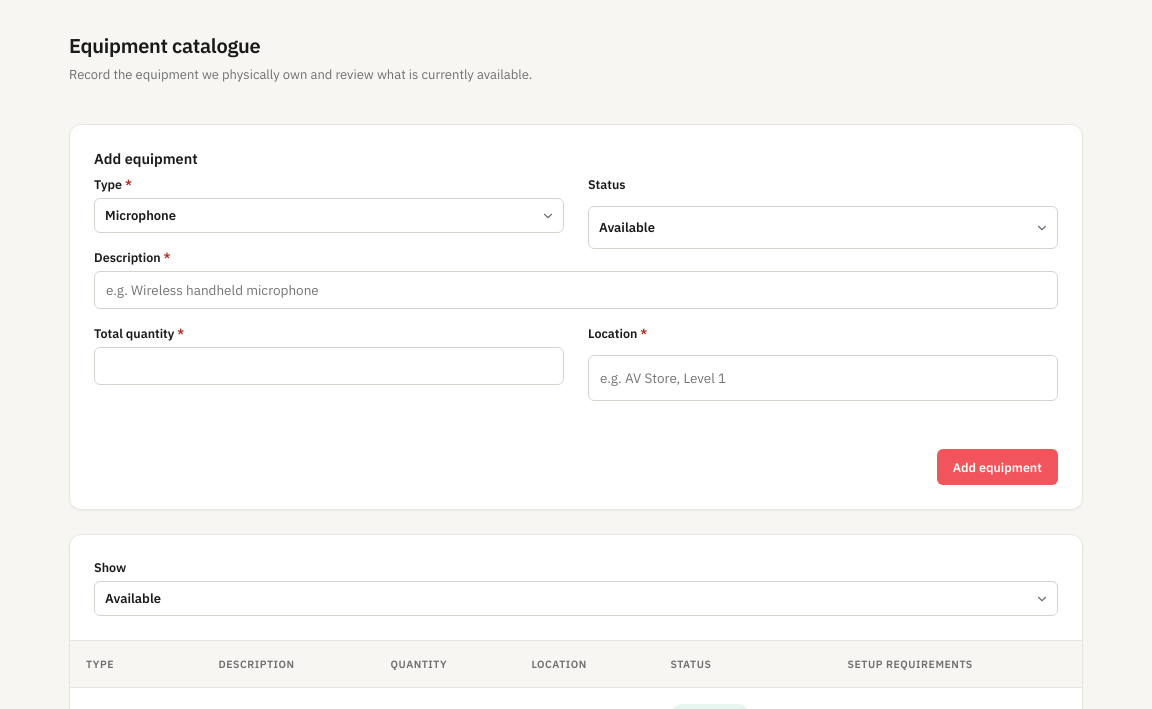
Test: validates before sending
The image size is (1152, 709).
In the field labelled "Description *": x=576, y=290 [94, 271, 1058, 309], type "Thing"
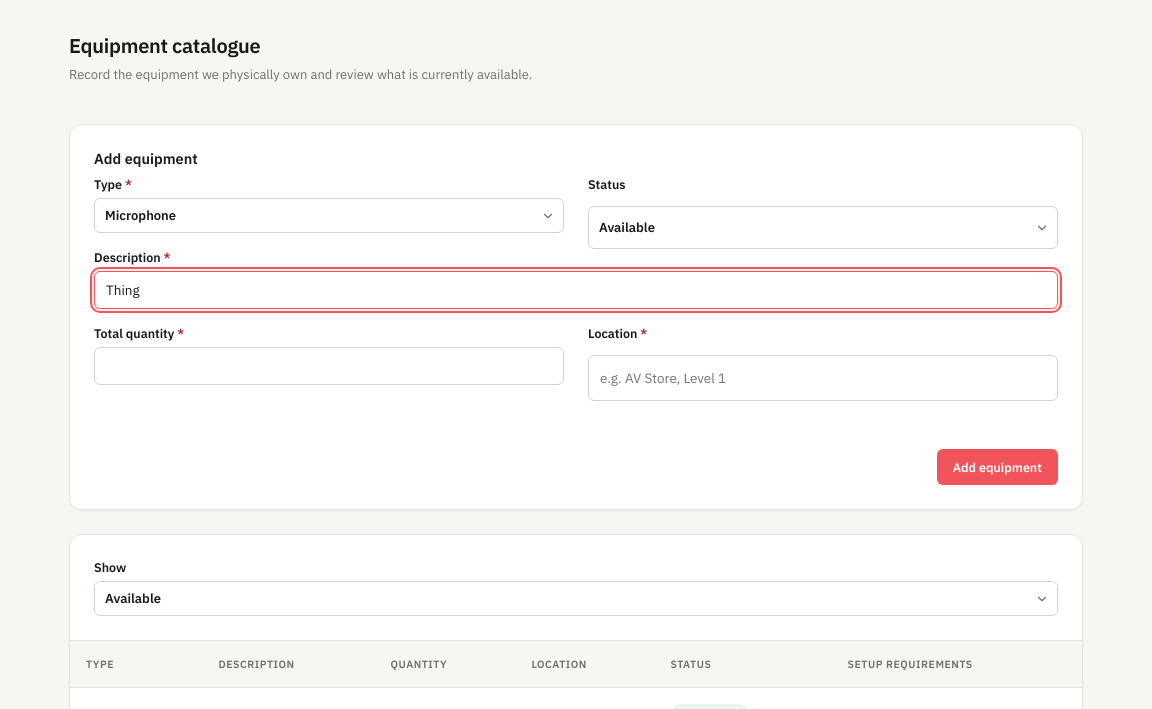
In the number field labelled "Total quantity *": x=329, y=366 [94, 347, 564, 385], type "-1"
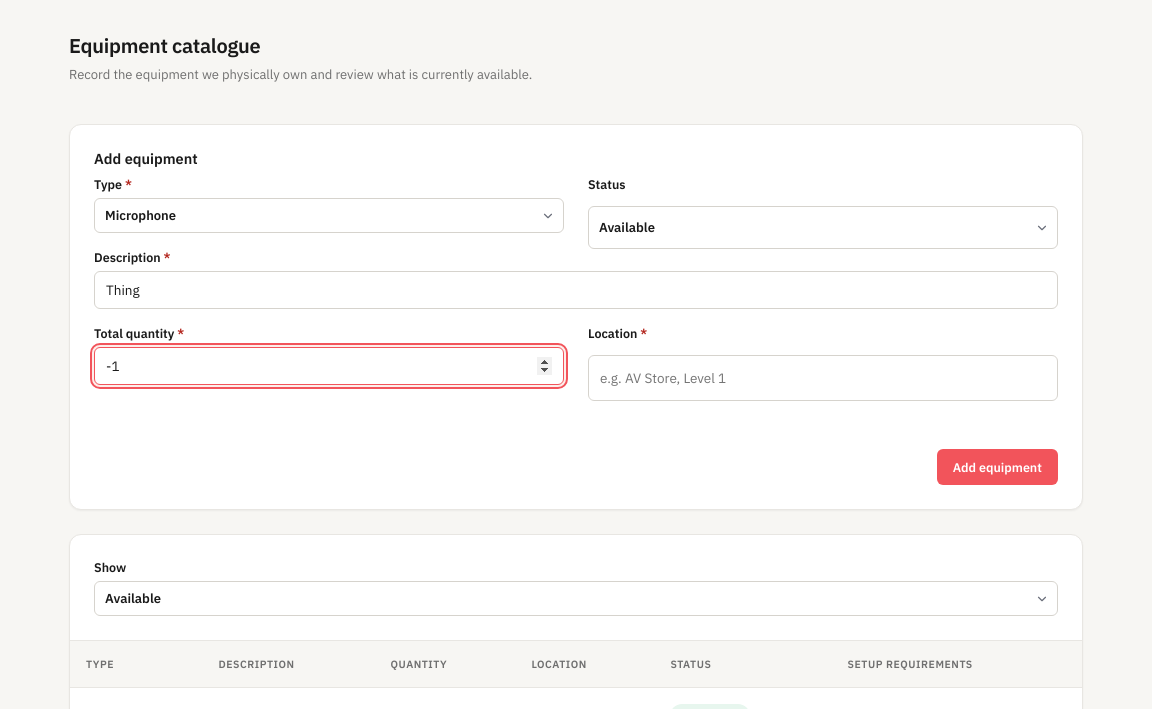
In the field labelled "Location *": x=823, y=378 [588, 355, 1058, 401], type "Store"
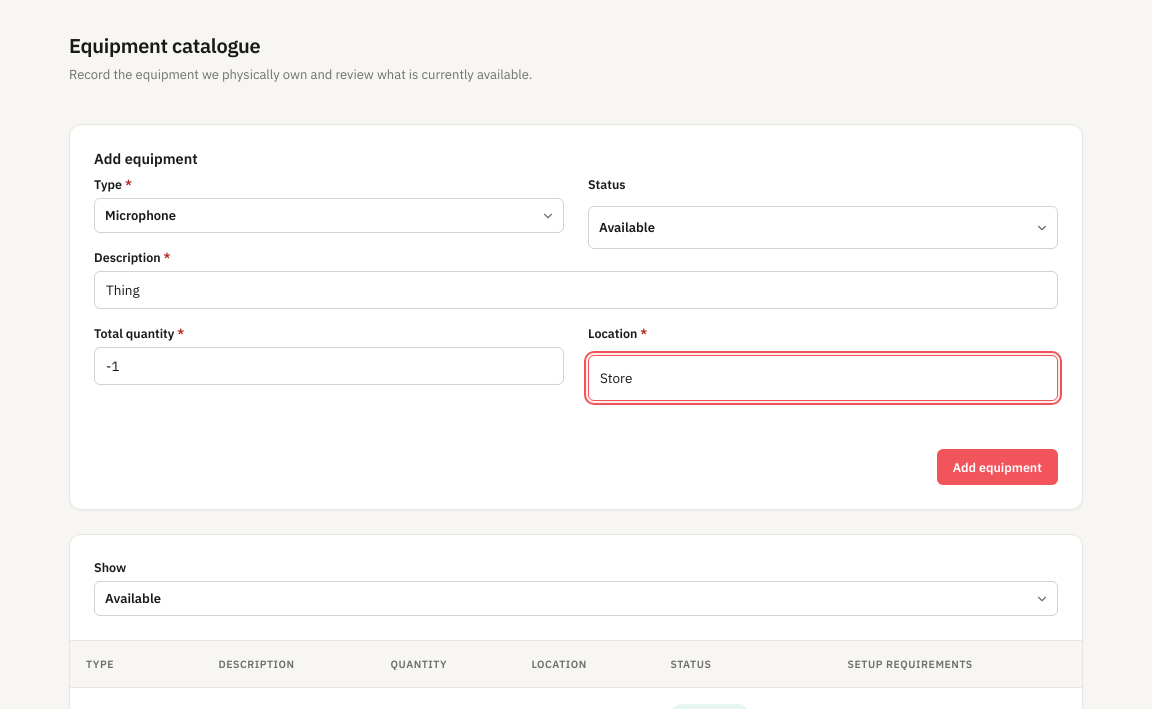
Click the button "Add equipment": x=997, y=467 [937, 449, 1058, 485]
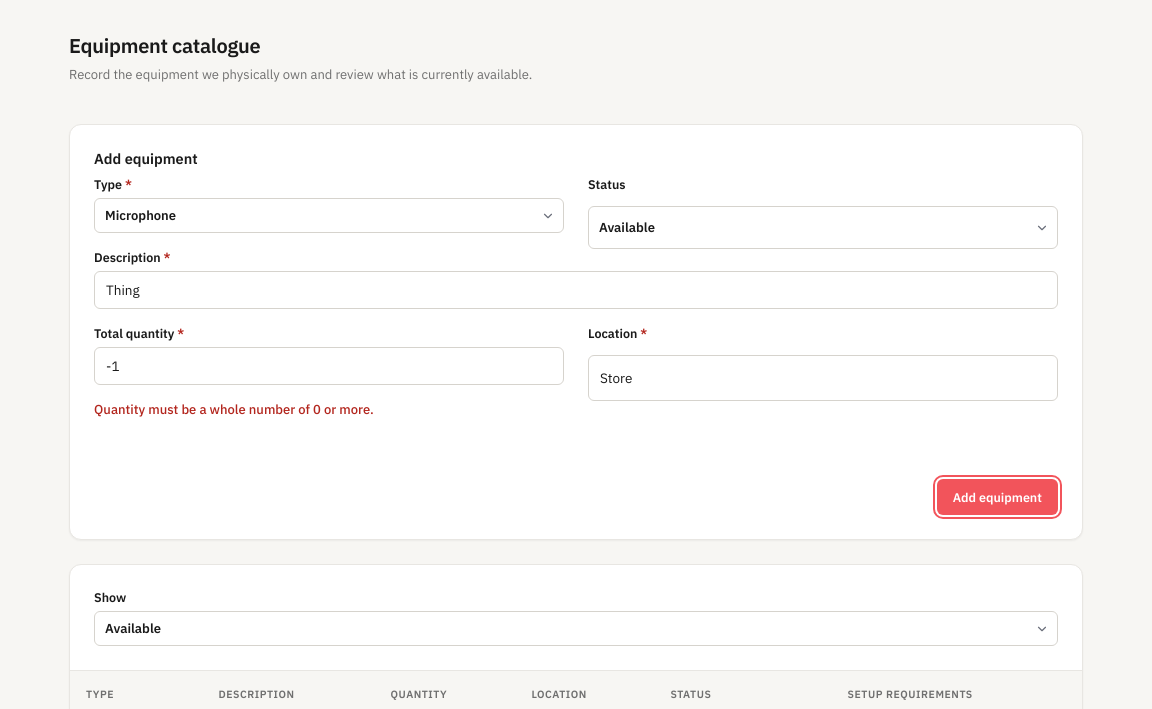
Expected: the message shows "whole number", [94, 401, 374, 418]
